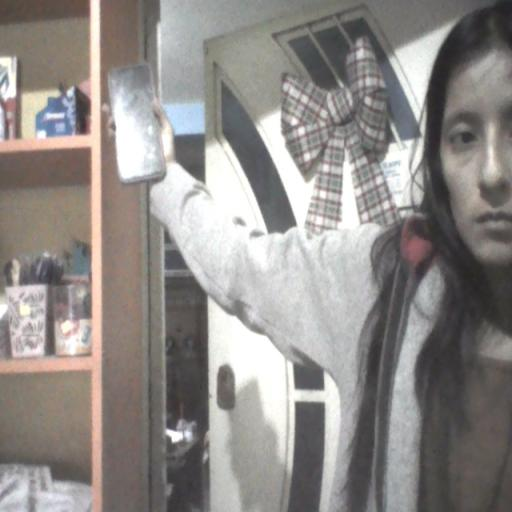phone: (102, 61, 174, 190)
